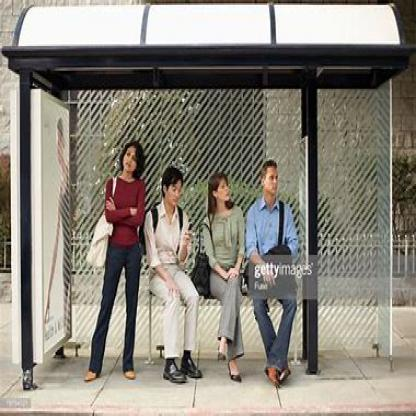Not_Wearing_Mask: (264, 166, 280, 196), (213, 179, 231, 202), (122, 146, 136, 174), (168, 179, 182, 207)
